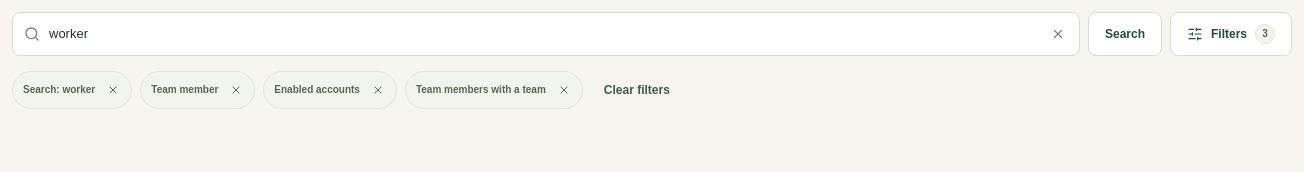
it: Account directory filters › removes one applied condition without changing others and clears all fields explicitly
Click the button named "Remove role filter". click: (236, 90)
box: [222,76,250,104]
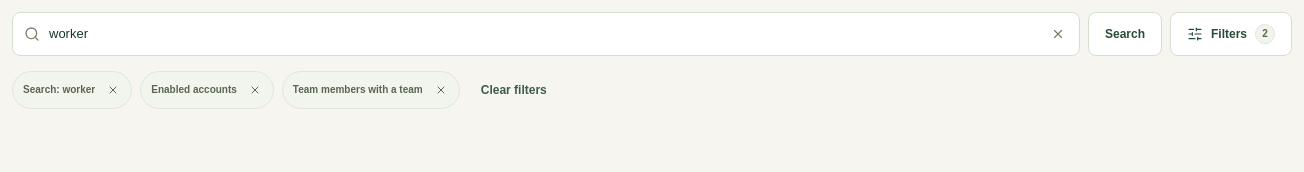
Check: the field named "Search accounts" holds "worker", box [12,12,1080,56]
Check: the button named "Remove status filter" is shown, box [241,76,269,104]
Click the button named "Remove search filter". click: (113, 90)
box: [99,76,127,104]
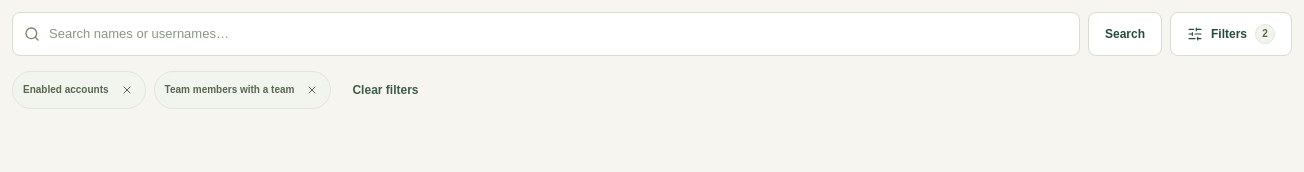
Check: the field named "Search accounts" is empty
Type "Unsent text" into the field named "Search accounts". click: (546, 34)
box: [12,12,1080,56]
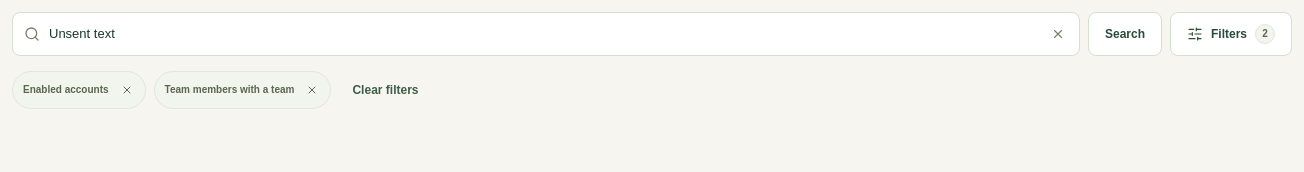
Click the button "Clear filters". click: (386, 90)
box: [340,68,432,112]
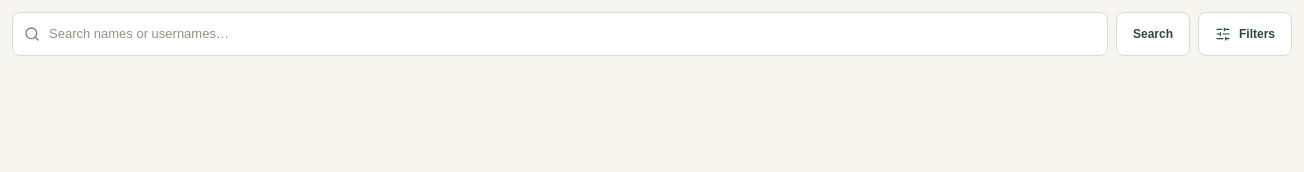
Check: the field named "Search accounts" is empty, box [12,12,1108,56]
